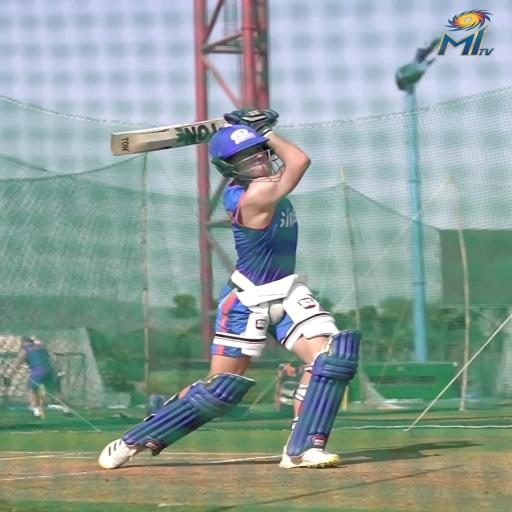Cricket bat: (111, 118, 226, 155)
